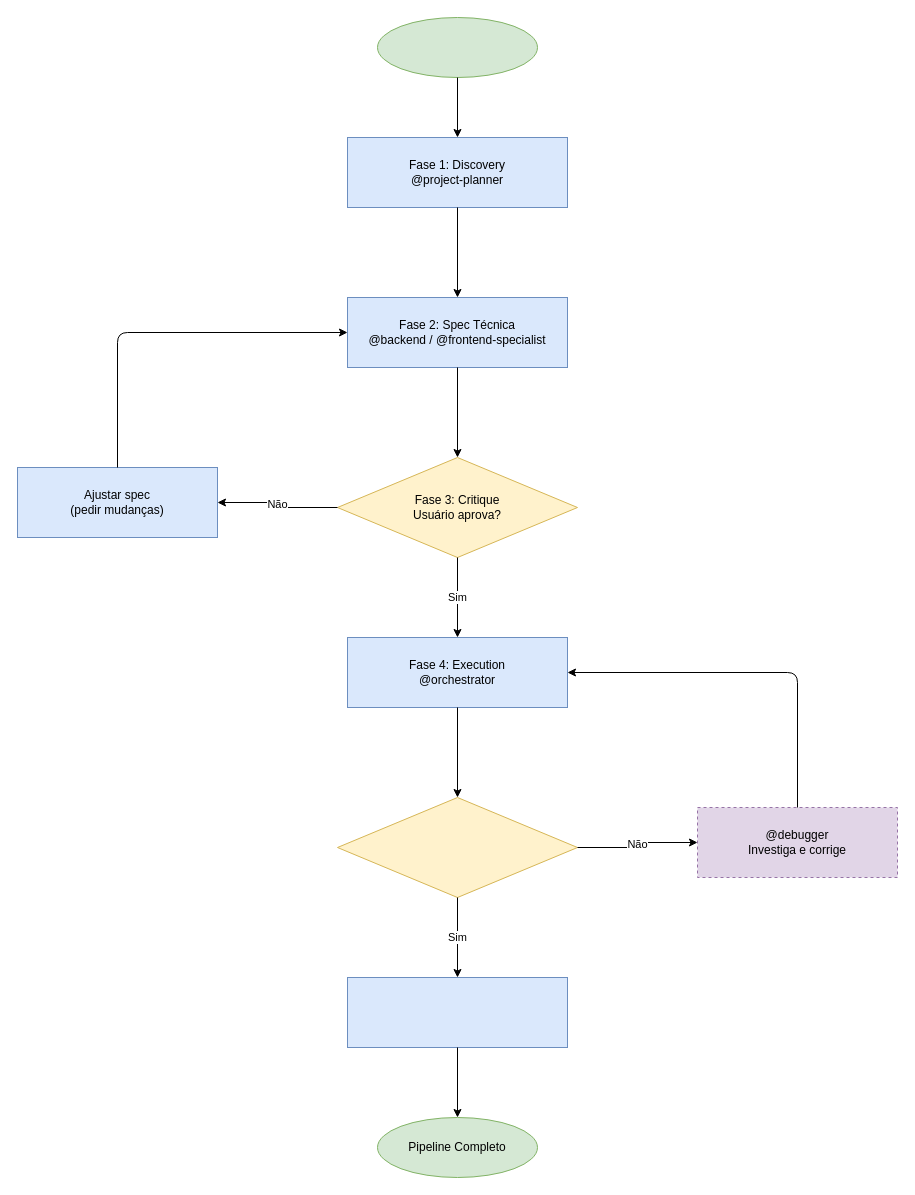
This 915x1195 diagram has some shape labels left out. The shapes that lost their labels are listed below. From the top down, each one's centre as x and y in pixels, then its label:
point 457,47: /ade {pedido}
point 457,847: Fase 5: QA Review Testes passam?
point 457,1012: Fase 6: Memory Registra lessons.md / gotchas.md
